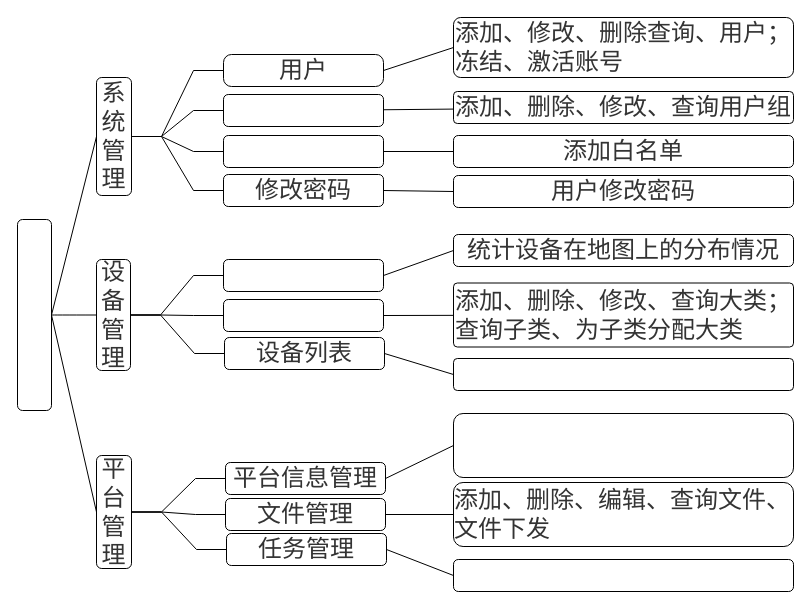
The diagram is 811 pixels wide and 609 high, and some of its shapes have lost their labels. The centre of each missing label's shape, as x and y in pixels:
"区域统计" belongs at (x=303, y=275).
"查询、修改平台信息（修改数据订阅周期 ）" belongs at (x=623, y=445).
"查询任务" belongs at (x=623, y=575).
"查询设备信息" belongs at (x=623, y=374).
"物联网管理平台" belongs at (x=34, y=314).
"用户组" belongs at (x=303, y=110).
"白名单" belongs at (x=303, y=151).
"设备类型管理" belongs at (x=303, y=315).
